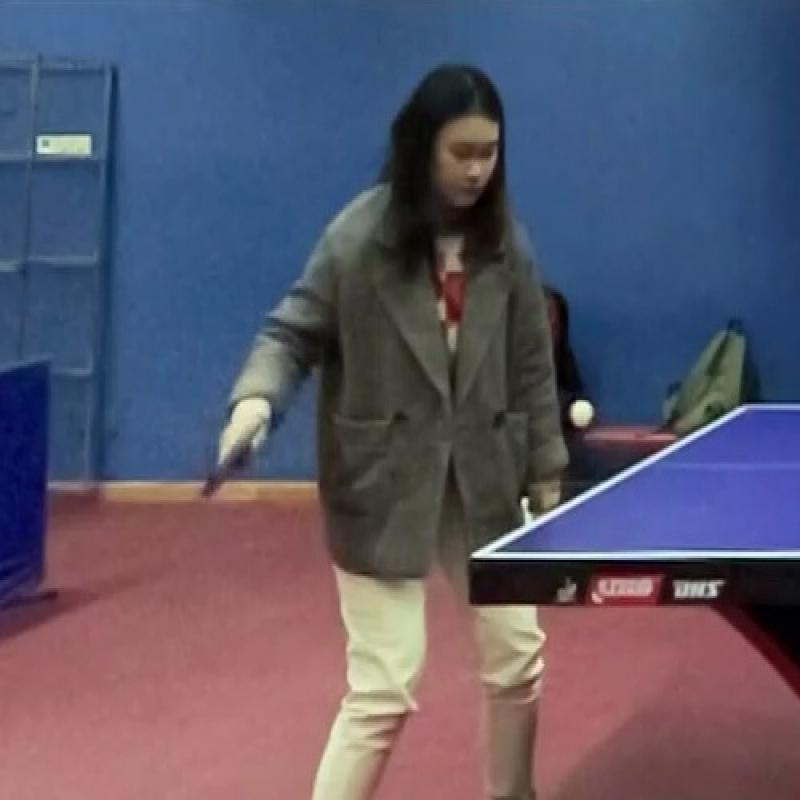bats: (196, 400, 277, 511)
